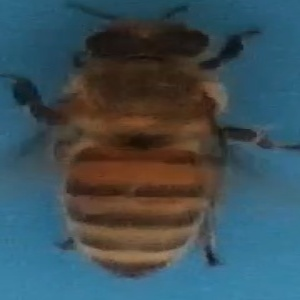bee: (20, 10, 282, 276)
